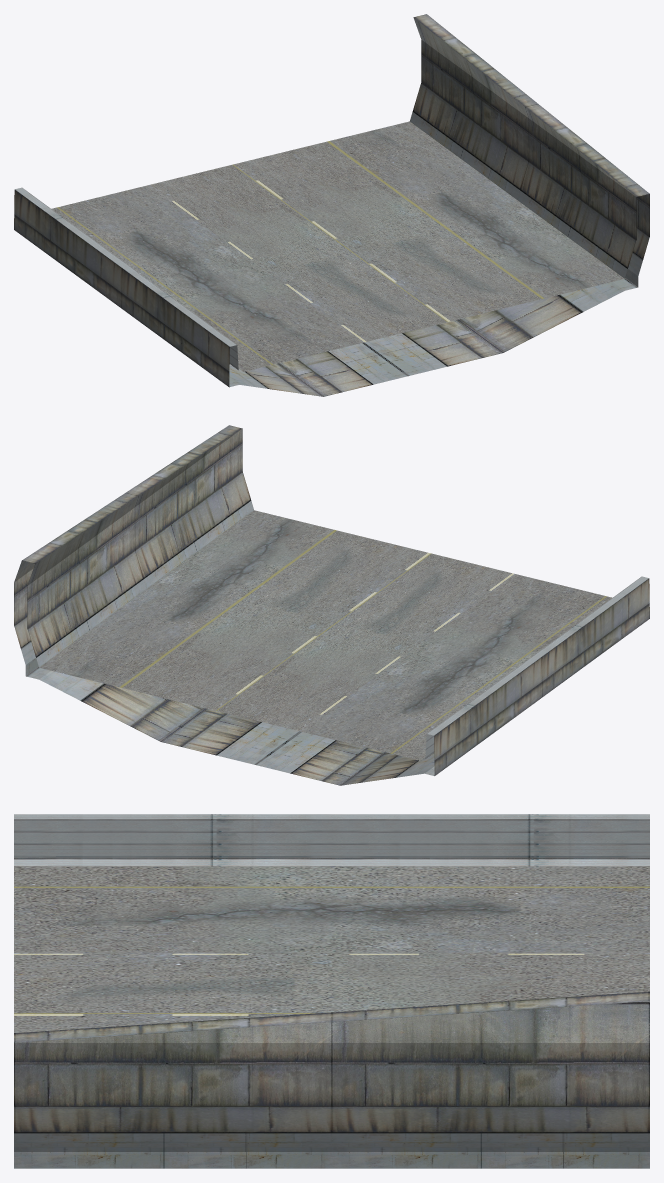
The model's file is Highway_Road_Part_04.fbx.
3 views of the same model, one above another, from view 1: azimuth 30°, elevation 25°; view 2: azimuth 150°, elevation 25°; view 3: azimuth 270°, elevation 25° (orthographic). The views are drawn at different scales.
Parts seen in each view (by area): view 1: Highway_Road_Part_04; view 2: Highway_Road_Part_04; view 3: Highway_Road_Part_04.
Boxes of the visible parts, x1,y1,x2,y2 form: Highway_Road_Part_04: (14,14,649,396); Highway_Road_Part_04: (14,425,649,785); Highway_Road_Part_04: (14,814,649,1168).
Size of the model in its own units: 1492 by 500 by 1322.
